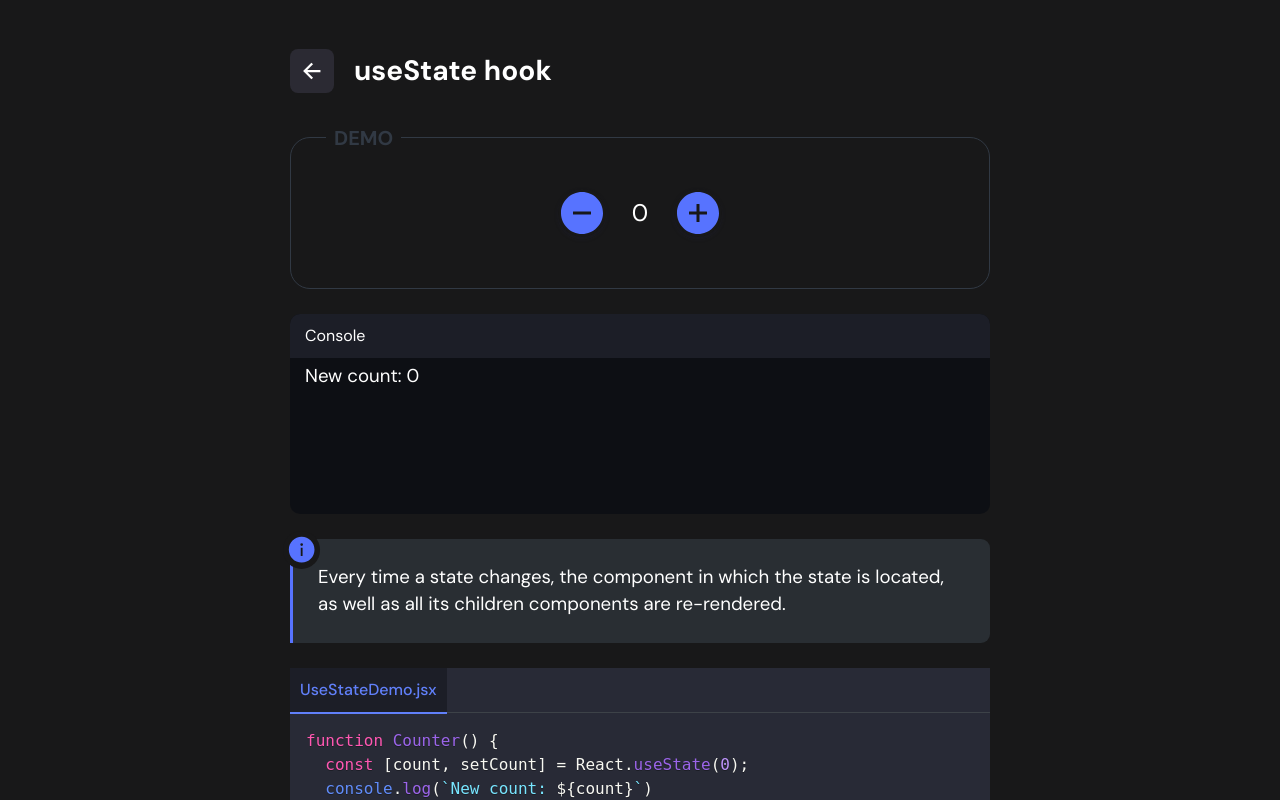
Test: Navigation › should reset demo after going back to the page
Click the button with test id "increase": [698, 213] box [668,188,728,238]
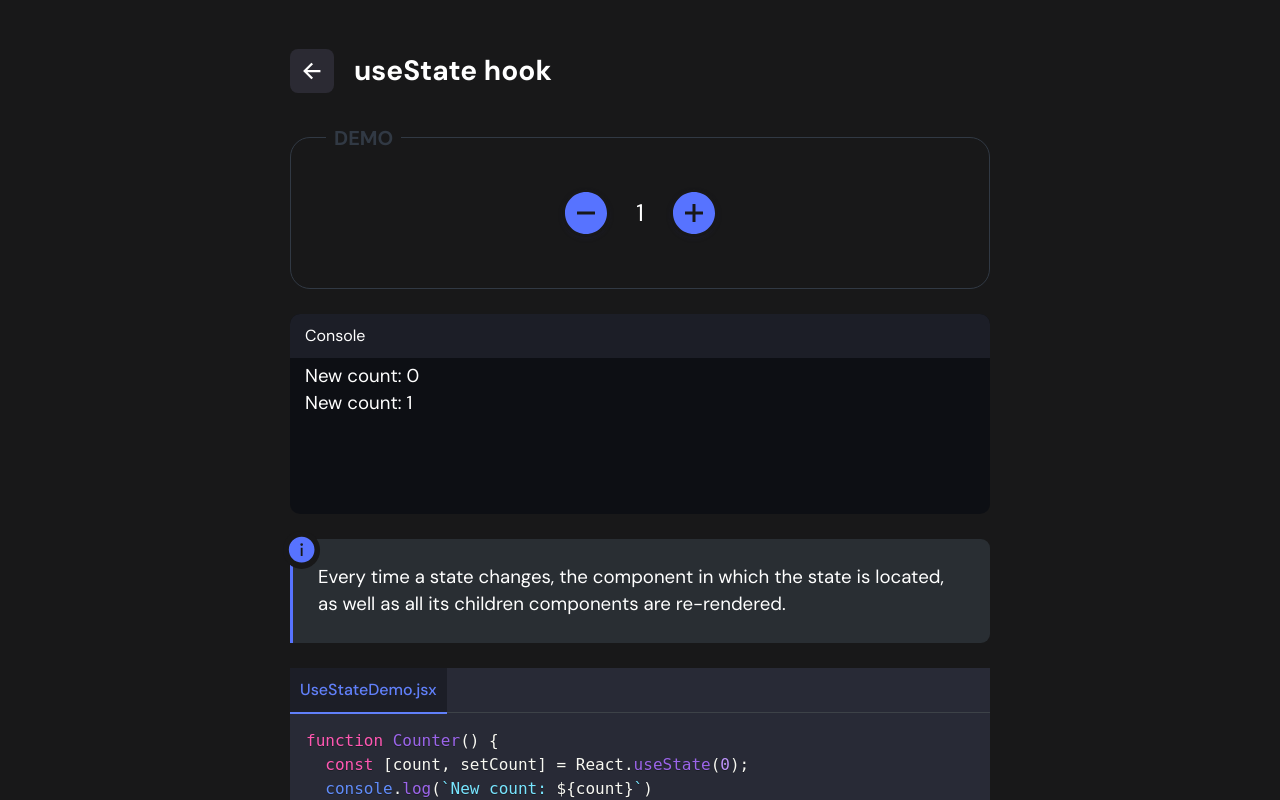
Click the button with test id "increase": [694, 213] box [664,188,724,238]
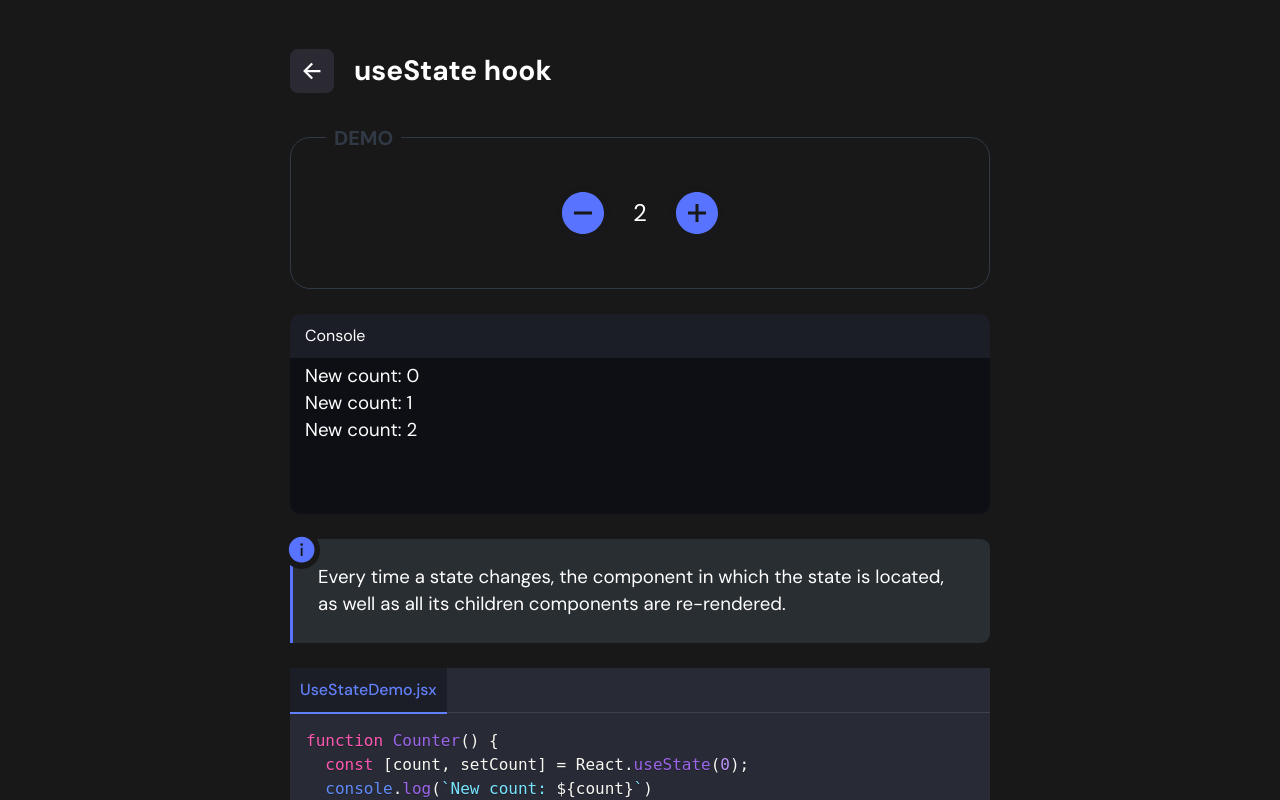
Click the button with test id "decrease": [583, 213] box [553,188,613,238]
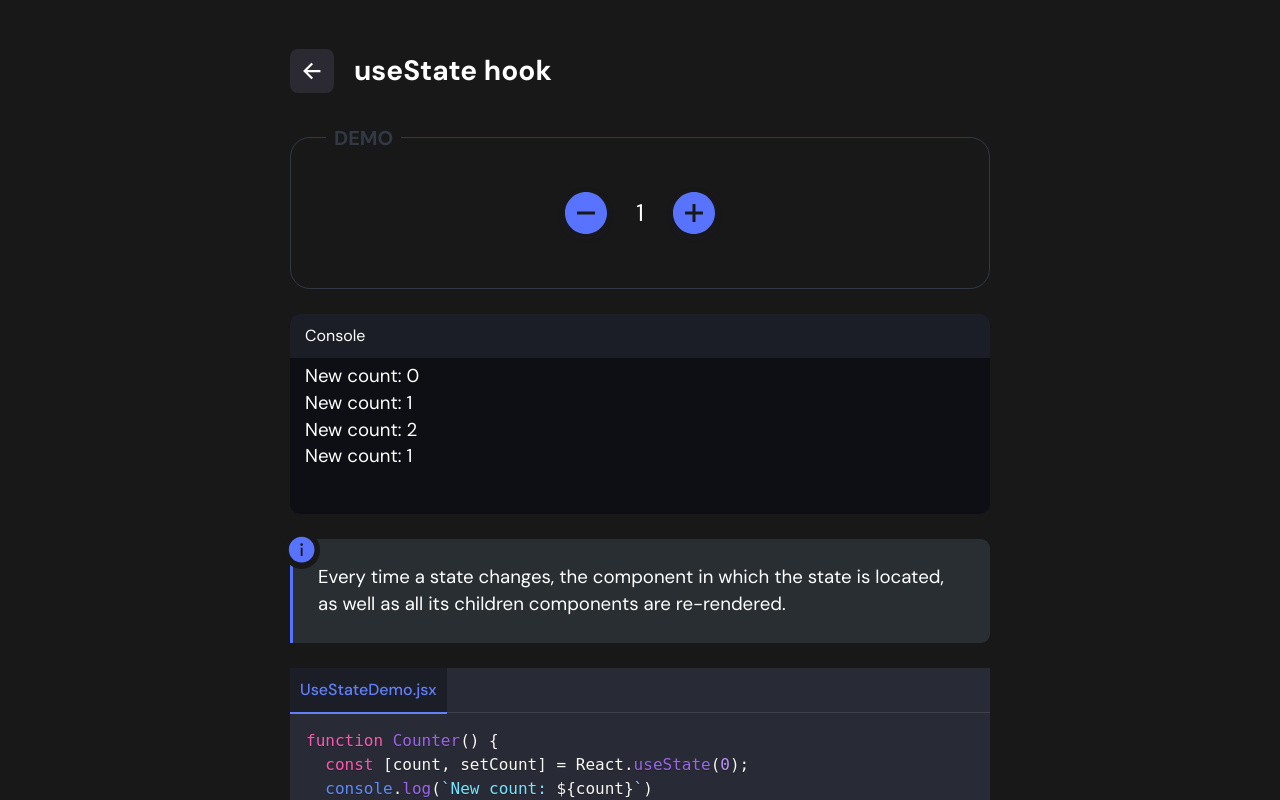
Expected: the text "1" is shown, [636,197,644,229]
Click the link: [312, 71] box [290,49,334,93]
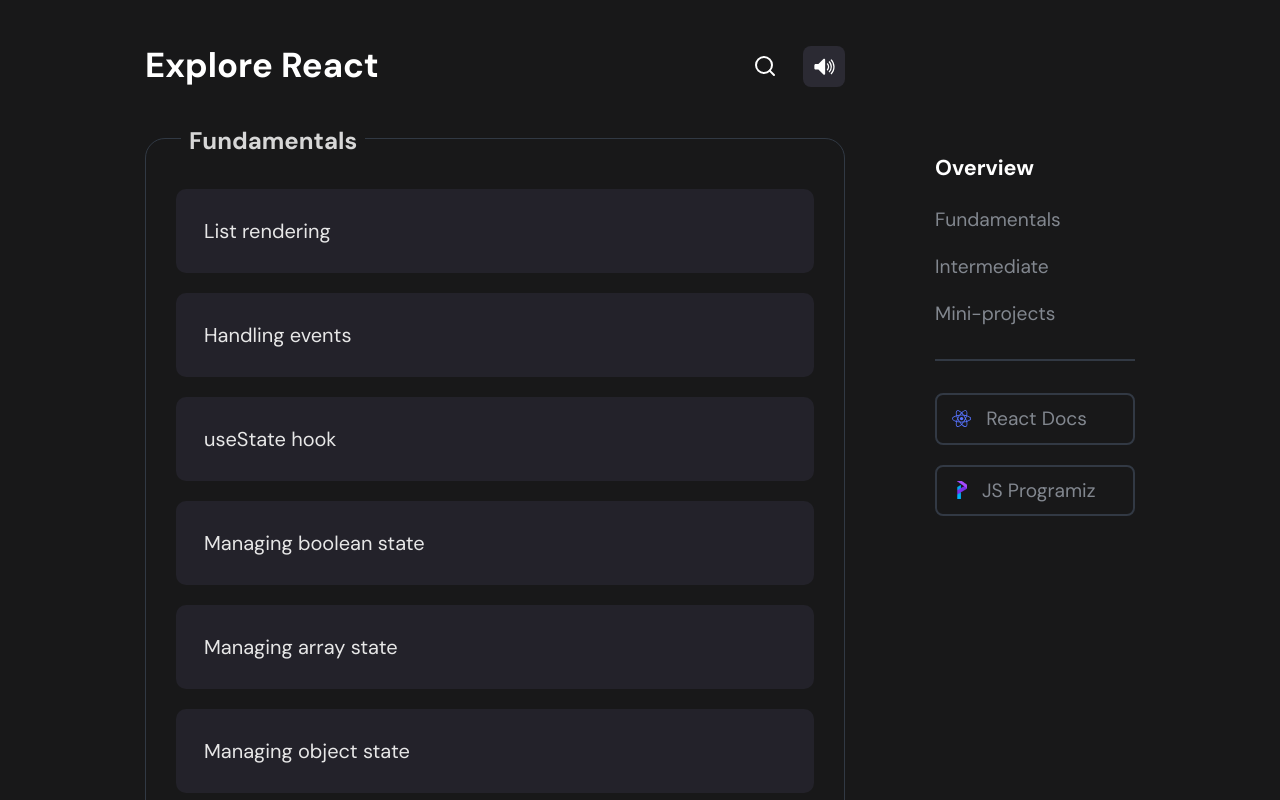
Click the link "useState hook": [270, 439] box [176,397,814,481]
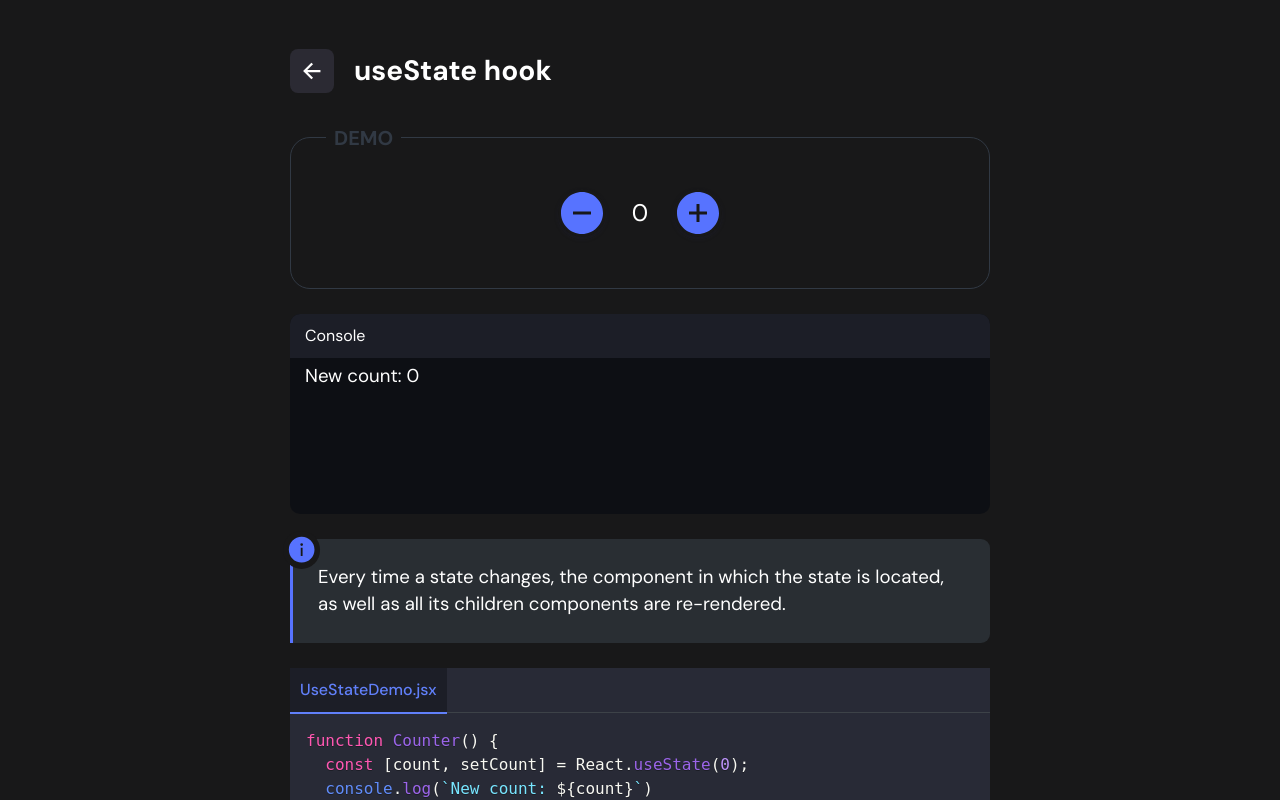
Expected: the 1st text "0" is shown, [632,197,648,229]
